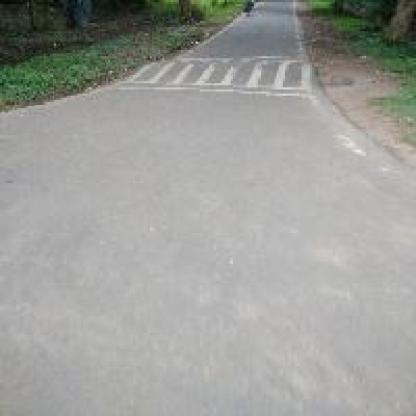Speed Bump: (112, 54, 308, 90)
